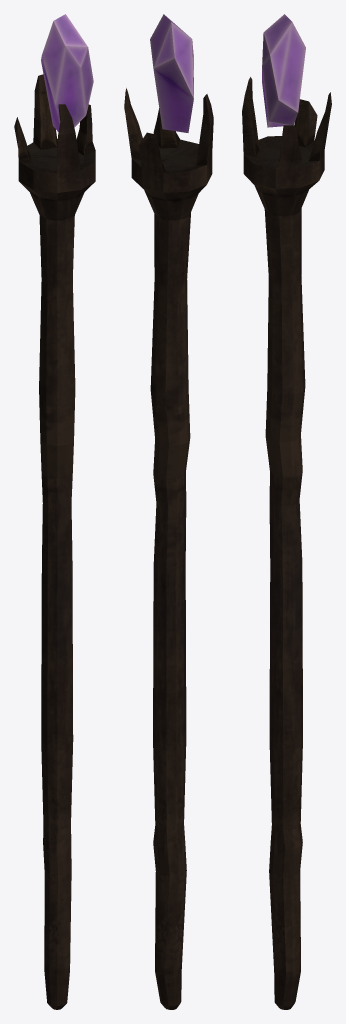
Rendered from WizardStaff.fbx.
3 renders of one model, left to right at view 1: azimuth 90°, elevation 25°; view 2: azimuth 150°, elevation 25°; view 3: azimuth 330°, elevation 25°, orthographic.
Parts seen in each view (by area): view 1: WizardStaff; view 2: WizardStaff; view 3: WizardStaff.
Part boxes in pixels (bbox=[...]): WizardStaff: bbox=[14, 14, 95, 1009]; WizardStaff: bbox=[124, 14, 213, 1009]; WizardStaff: bbox=[242, 14, 331, 1009].
Size of the model in its own units: 16.92 by 203 by 15.2.
